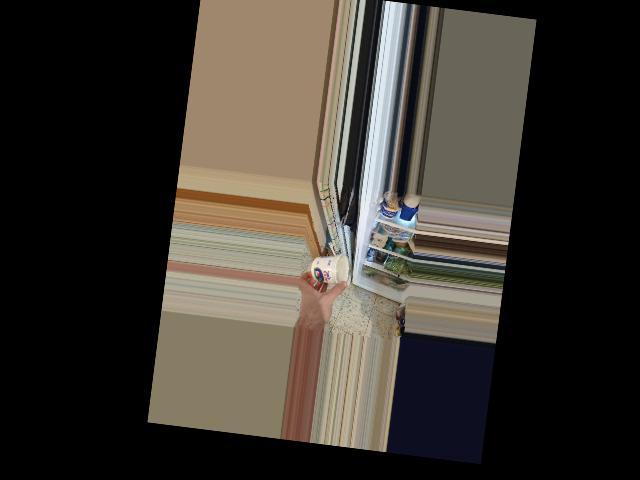cotage: (308, 252, 352, 288)
